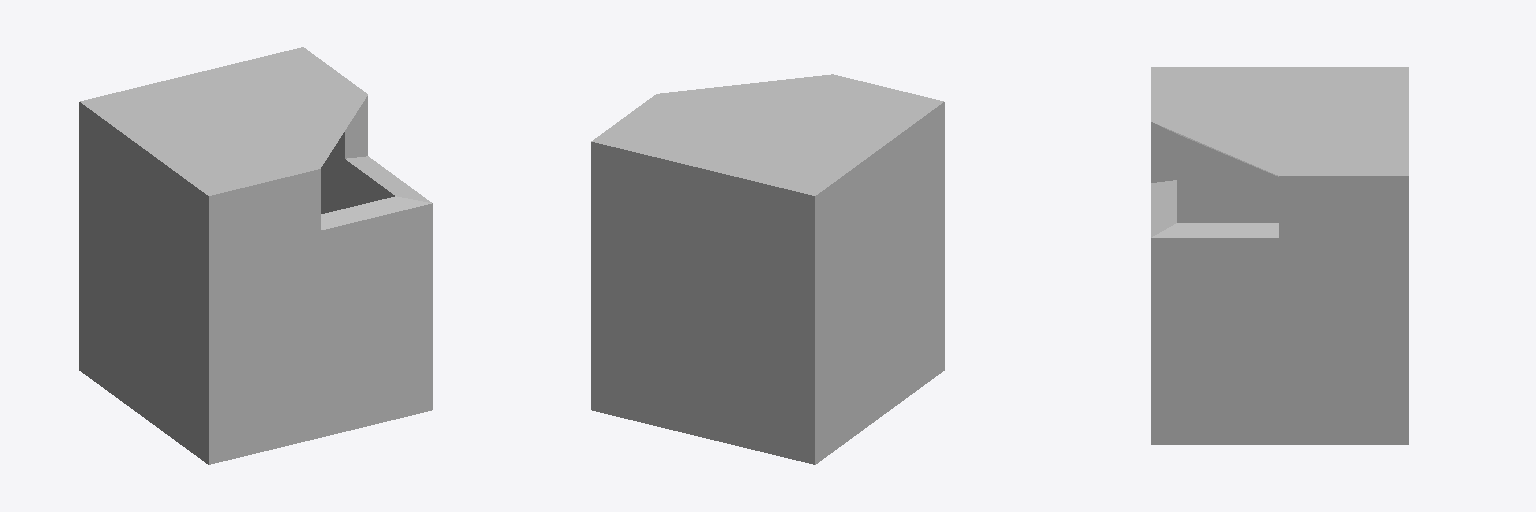
Rendered from empty.obj.
The picture shows the model from 3 angles: view 1: azimuth 30°, elevation 25°; view 2: azimuth 150°, elevation 25°; view 3: azimuth 270°, elevation 25°; orthographic projection.
Visible parts, largest first — view 1: Plane; view 2: Plane; view 3: Plane.
Boxes of the visible parts, x1,y1,x2,y2 form: Plane: [79, 47, 432, 464]; Plane: [591, 74, 944, 464]; Plane: [1151, 67, 1408, 444].
Bounding box in the file's own units: 3.37 × 3.87 × 3.37.